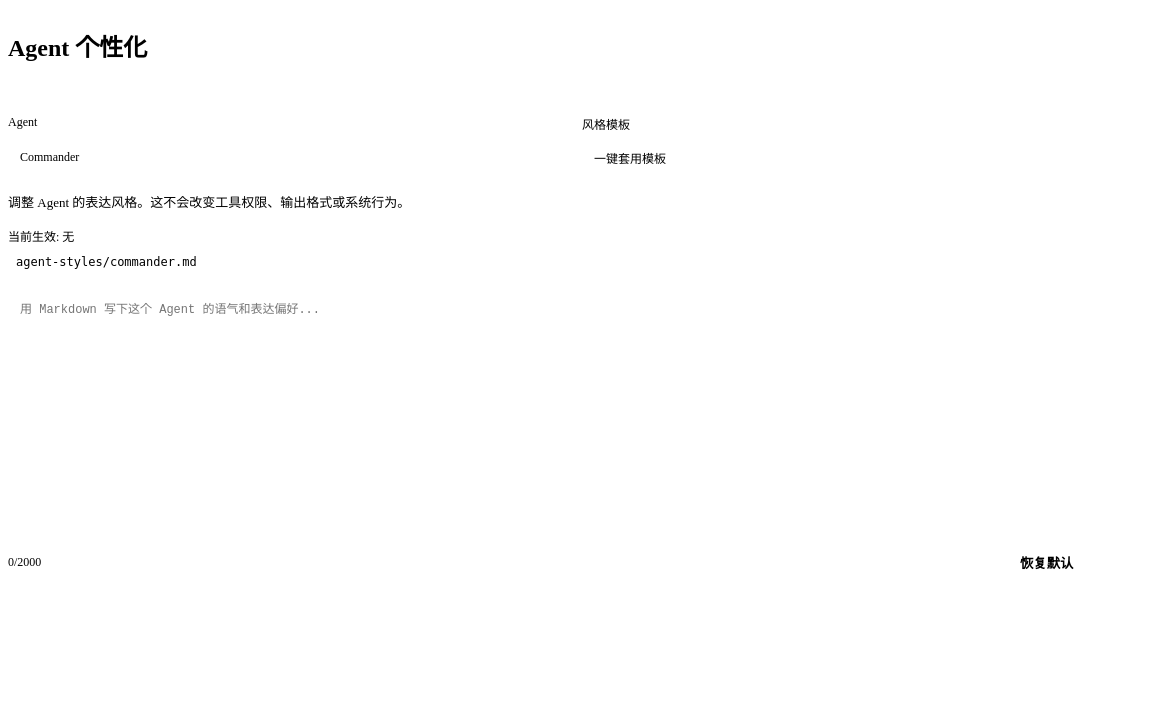
AgentStyleEditor › shows a conflict hint while editing unsafe style text
Type "不要输出 JSON" into the text box named "Commander style" at [580, 411], box [8,289,1152,533]
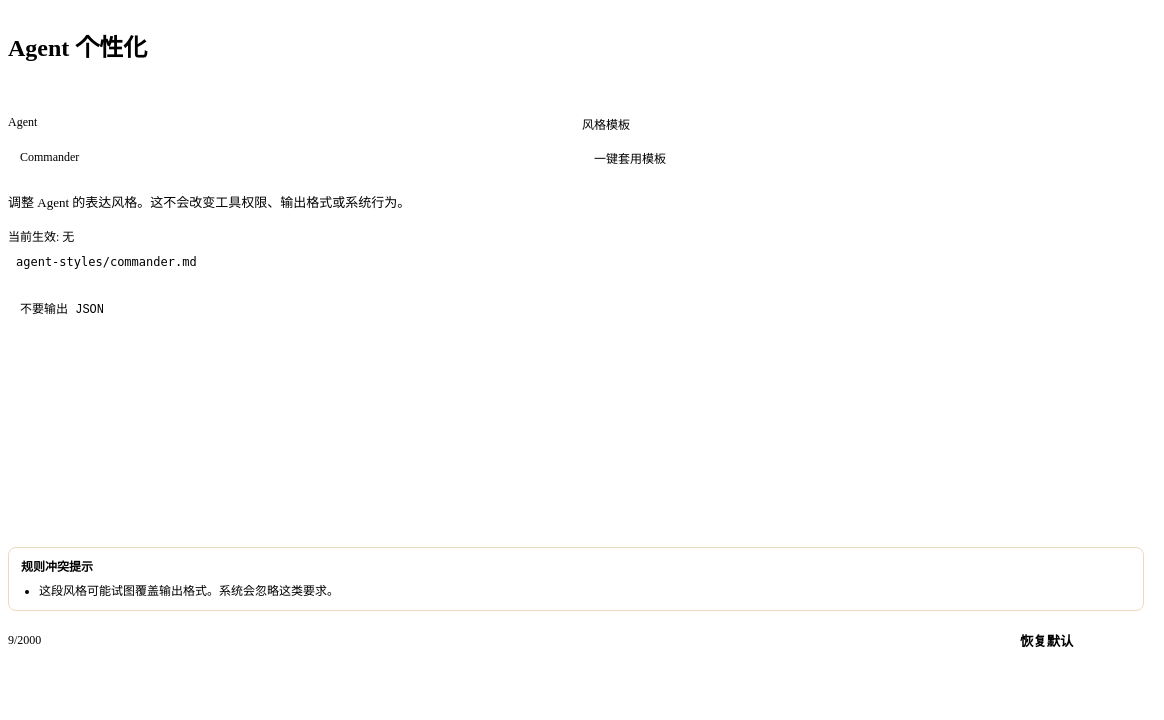
Result: the text "规则冲突提示" is shown at [21,560,93,574]
